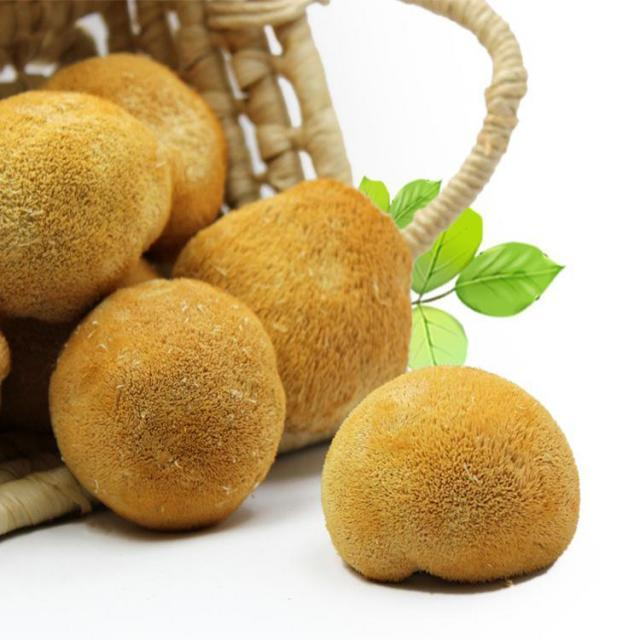Hericium erinaceus: (181, 177, 409, 455), (51, 279, 289, 527), (325, 365, 580, 581), (0, 91, 170, 319), (47, 55, 230, 231)
